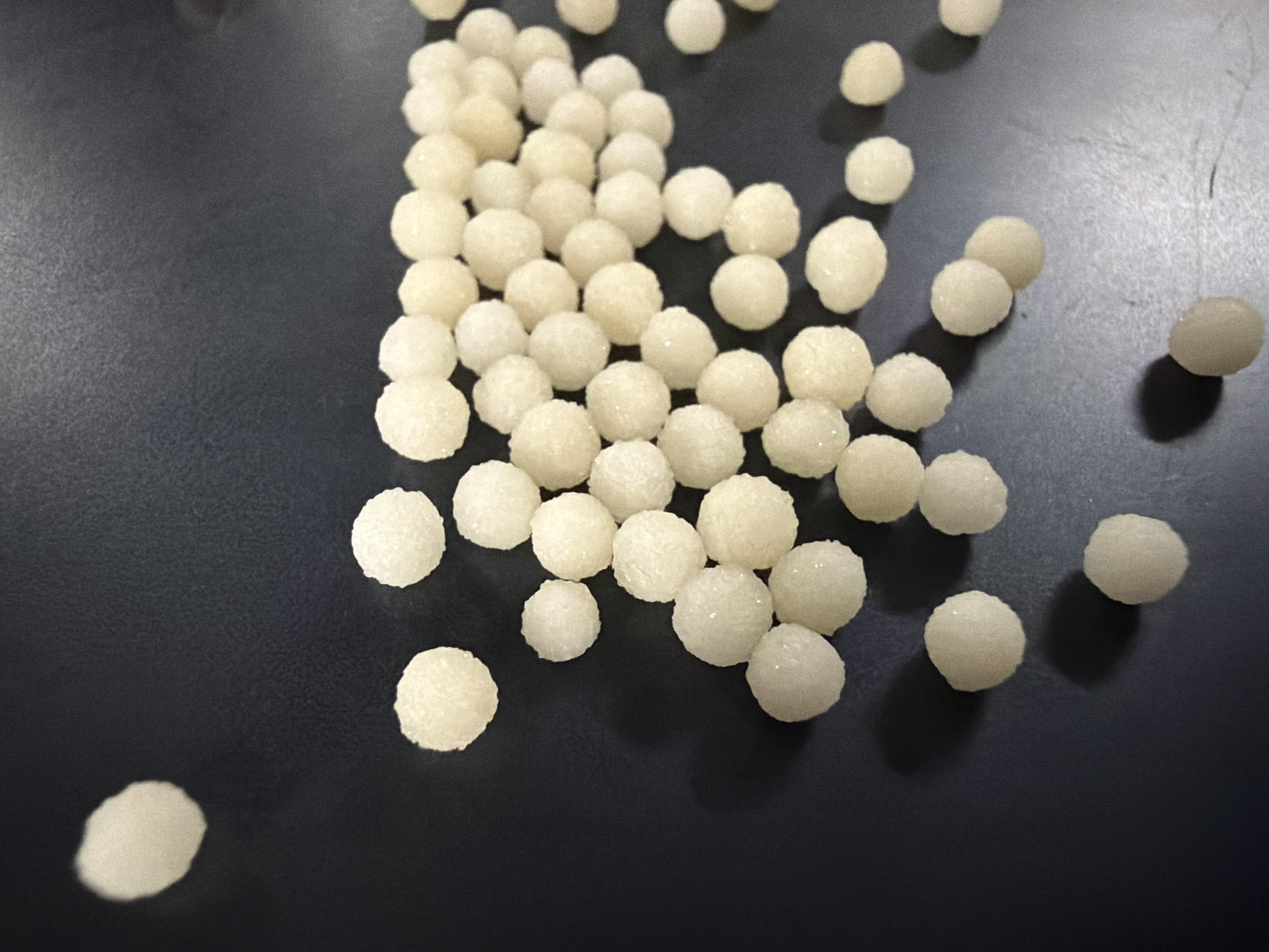pill: (75, 780, 205, 901), (394, 647, 496, 751), (924, 591, 1025, 691), (672, 565, 772, 666), (746, 624, 844, 722), (697, 475, 798, 570), (1084, 514, 1188, 604), (768, 541, 866, 636), (352, 488, 445, 587), (612, 510, 706, 602), (509, 399, 600, 490), (375, 375, 470, 461), (835, 434, 925, 523), (805, 216, 887, 313), (453, 461, 540, 550), (531, 492, 617, 581), (782, 326, 873, 410), (1169, 297, 1265, 376), (657, 404, 745, 489), (919, 451, 1007, 535), (587, 440, 675, 523), (696, 349, 779, 432), (762, 399, 849, 478), (586, 361, 670, 442), (583, 261, 663, 346), (865, 353, 952, 431), (462, 208, 543, 291), (528, 311, 611, 391), (472, 354, 553, 434), (522, 579, 600, 662), (931, 258, 1012, 336), (640, 307, 717, 389), (963, 216, 1046, 291), (709, 253, 789, 330), (722, 183, 800, 258), (523, 176, 594, 255), (398, 258, 478, 328), (390, 189, 468, 260), (454, 300, 528, 374), (504, 259, 579, 331), (595, 170, 663, 248), (663, 166, 734, 240), (449, 91, 524, 161), (559, 218, 634, 286), (379, 315, 457, 380), (403, 132, 477, 200), (845, 136, 914, 204), (518, 128, 595, 188), (839, 41, 904, 106), (401, 71, 463, 136), (543, 88, 607, 150), (609, 89, 674, 149), (521, 58, 578, 124), (598, 131, 666, 184), (462, 56, 521, 114), (664, 0, 725, 54), (470, 160, 532, 213), (455, 8, 517, 60), (510, 25, 572, 77), (580, 54, 643, 105), (407, 39, 471, 85), (407, 39, 469, 85), (939, 0, 1002, 37), (556, 0, 618, 35), (411, 0, 466, 20), (736, 0, 778, 13)
